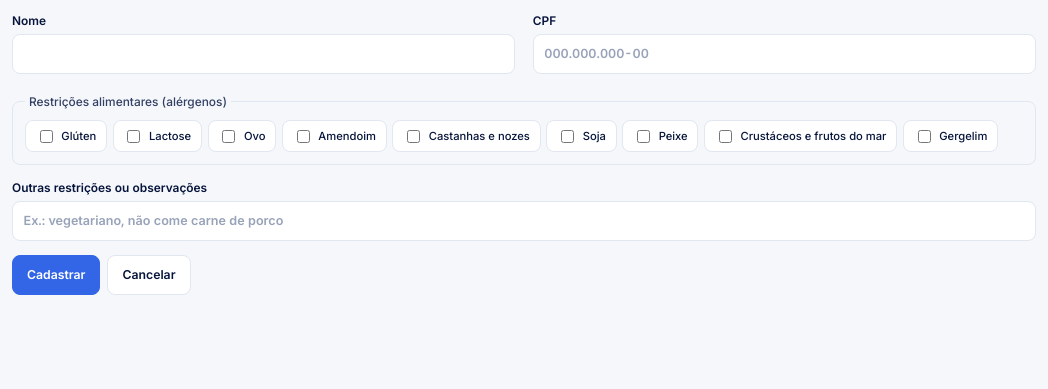
Test: ParticipanteForm › exibe o erro devolvido pela API
The image size is (1048, 389).
Type "Ana" into the field labelled "Nome" at (264, 54), box [12,34,515,74]
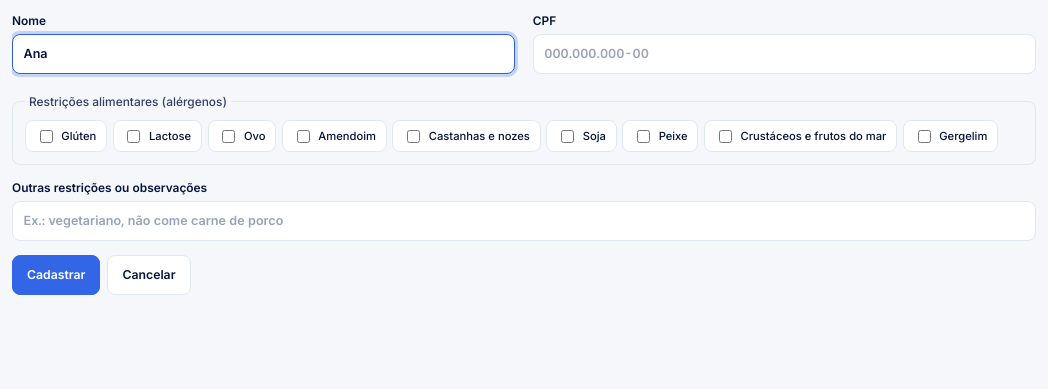
Type "52998224725" into the field labelled "CPF" at (784, 54), box [533,34,1036,74]
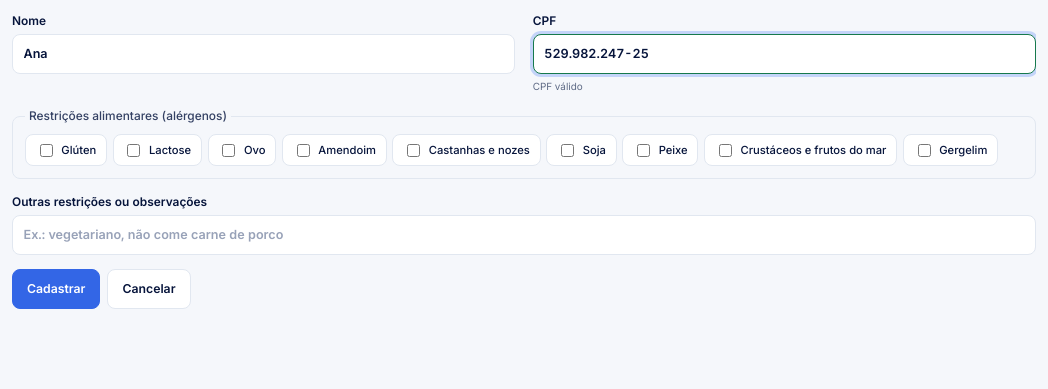
Click the button "Cadastrar" at (56, 290), box [12,270,100,310]
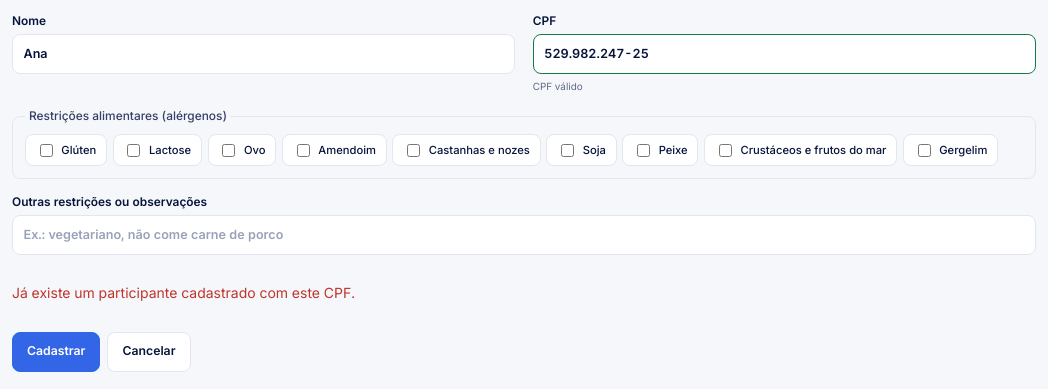
Now the message shows "Já existe um participante", box [12,284,355,302]
